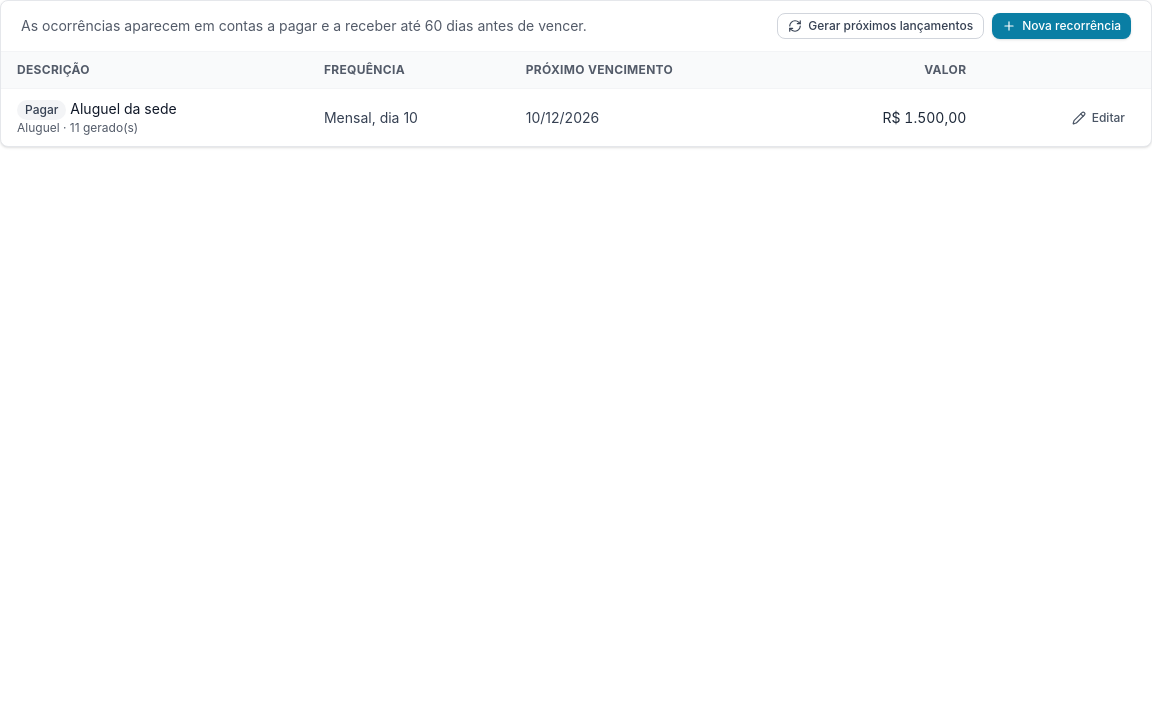
Test: Cadastros › Recorrências › gerar os próximos lançamentos: avisa quantos nasceram e busca a lista de novo
Check: the text "Aluguel · 11 gerado(s)" is shown, box [17,120,138,135]
Click the button "Gerar próximos lançamentos" at (881, 26), box [777,13,984,39]
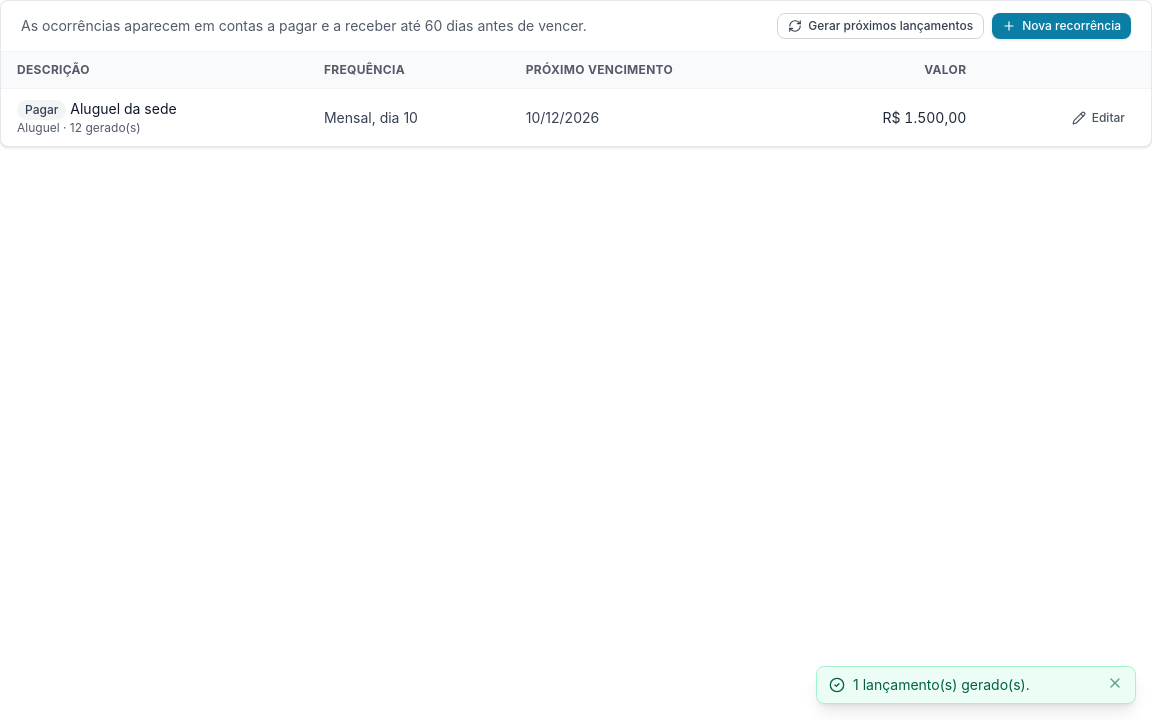
Check: the text "1 lançamento(s) gerado(s)." is shown, box [853,676,1030,693]
Check: the text "Aluguel · 12 gerado(s)" is shown, box [17,120,141,135]
